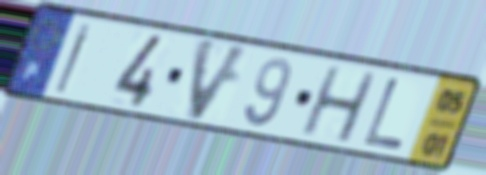4: (109, 30, 164, 111)
9: (241, 55, 294, 130)
H: (296, 63, 381, 146)
I: (51, 20, 97, 97)
L: (359, 75, 408, 153)
V: (183, 34, 255, 126)
